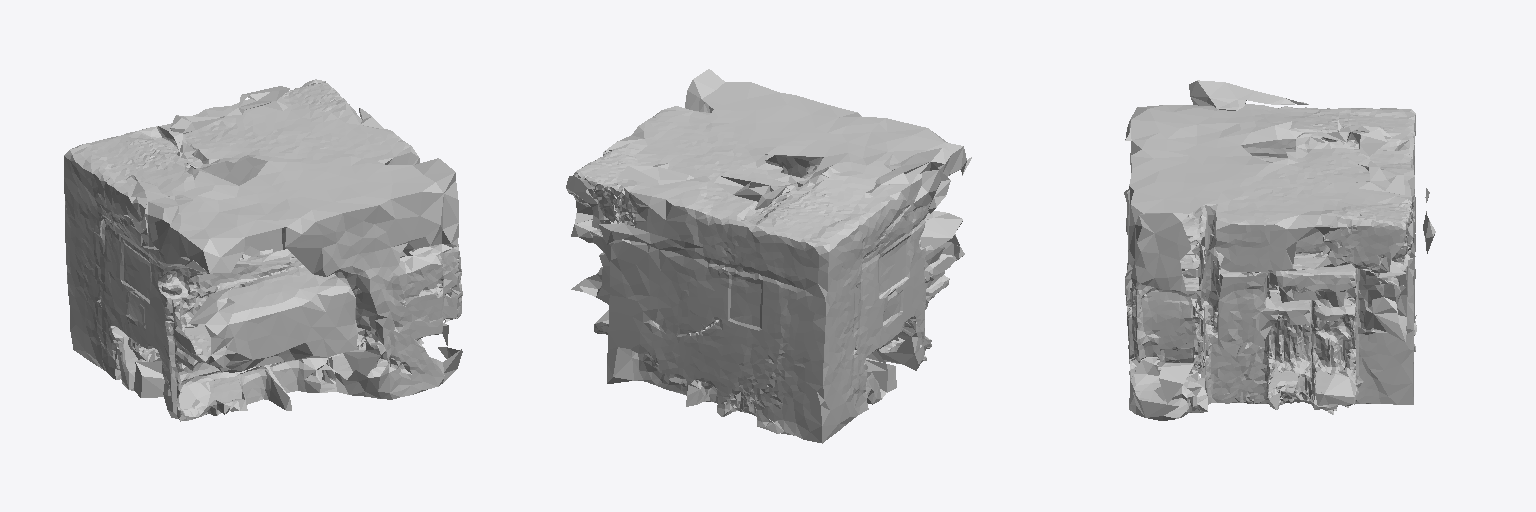
The model's file is Beaty.Bedroom.2.obj.
3 renders of one model, left to right at view 1: azimuth 30°, elevation 25°; view 2: azimuth 150°, elevation 25°; view 3: azimuth 270°, elevation 25°, orthographic.
Visible parts, largest first — view 1: mesh_simple_rotated_0, mesh_simple_rotated_1; view 2: mesh_simple_rotated_0, mesh_simple_rotated_1; view 3: mesh_simple_rotated_0, mesh_simple_rotated_1.
Boxes of the visible parts, x1=… form: mesh_simple_rotated_0: x1=64, y1=95, x2=462, y2=421; mesh_simple_rotated_1: x1=241, y1=79, x2=462, y2=399; mesh_simple_rotated_0: x1=604, y1=69, x2=971, y2=443; mesh_simple_rotated_1: x1=566, y1=147, x2=695, y2=385; mesh_simple_rotated_0: x1=1124, y1=80, x2=1429, y2=387; mesh_simple_rotated_1: x1=1128, y1=175, x2=1435, y2=420.
Bounding box in the file's own units: 4.15 × 3.04 × 3.85.